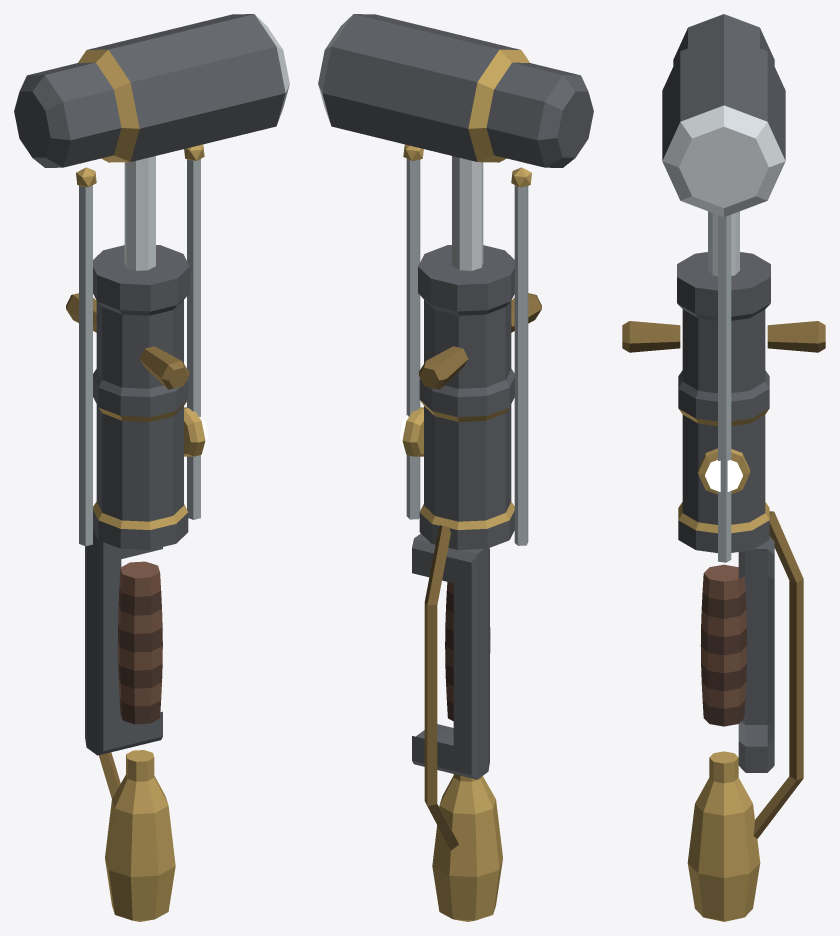
The model's file is engine_arm.glb.
3 views of the same model, side by side, from view 1: azimuth 30°, elevation 25°; view 2: azimuth 150°, elevation 25°; view 3: azimuth 270°, elevation 25° (orthographic).
Parts seen in each view (by area): view 1: engine_arm; view 2: engine_arm; view 3: engine_arm.
Part boxes in pixels (box(x1,y1,x2,y2)): engine_arm: box(14, 14, 289, 921); engine_arm: box(318, 14, 593, 921); engine_arm: box(622, 14, 825, 921).
Bounding box in the file's own units: 0.37 × 1.32 × 0.28.
